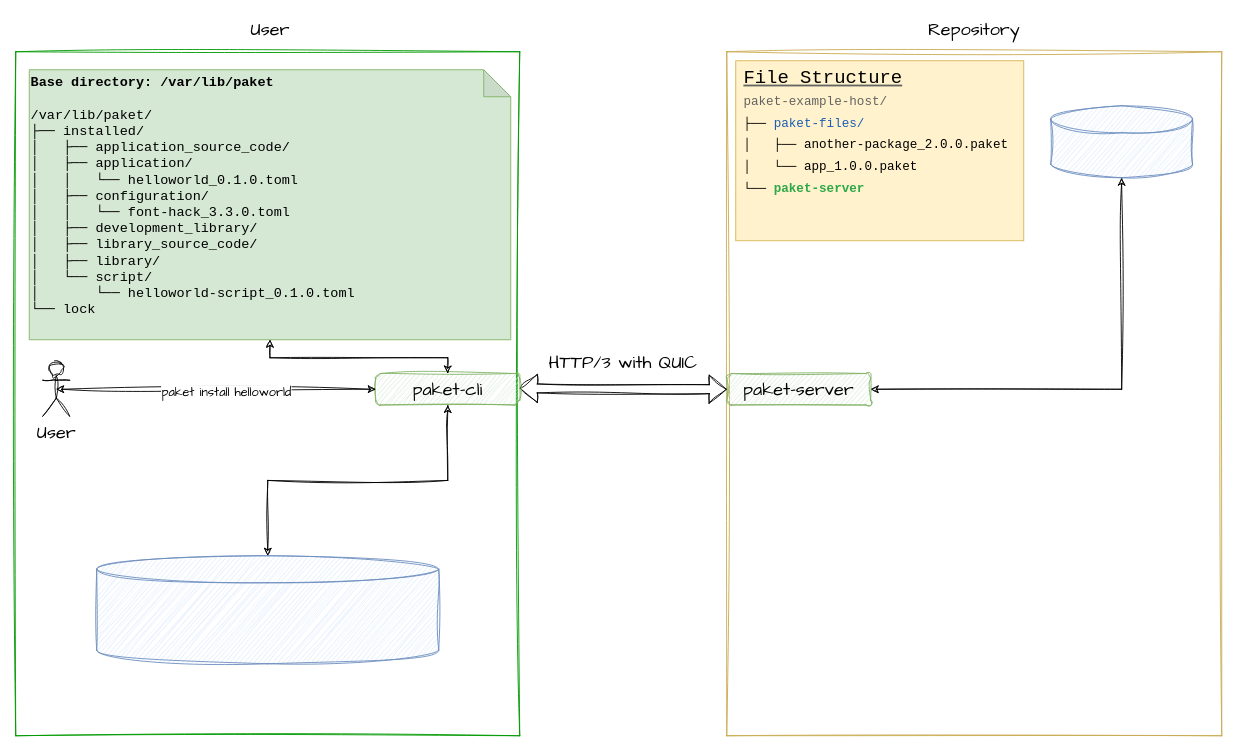
This 1238x752 diagram has some shape labels left out. The centre of each missing label's shape, as x and y in pixels:
"paket-files/" belongs at (x=1121, y=141).
"User Storage" belongs at (x=267, y=609).
